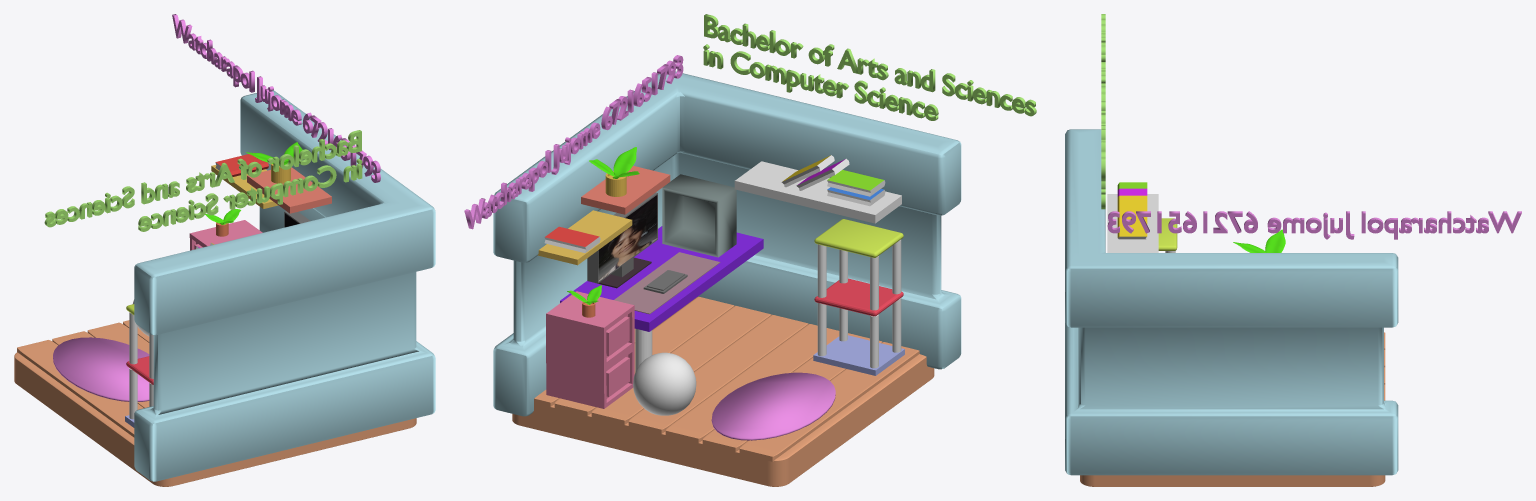
Rendered from KenRoom.glb.
The picture shows the model from 3 angles, left to right: view 1: azimuth 30°, elevation 25°; view 2: azimuth 150°, elevation 25°; view 3: azimuth 270°, elevation 25°; orthographic projection. The views are drawn at different scales.
Visible parts, largest first — view 1: Cube, Text.002, Cube.001, Cylinder.006, Text.001, Cube.002, Cube.011, Cube.005, Cube.010, Cube.021; view 2: Cube, Cube.002, Cube.001, Cube.005, Text.002, Cylinder.006, Cube.006, Text.001, Cube.003, Cube.012, Sphere, Cube.007 (+9 smaller); view 3: Cube, Text.001, Cube.001, Cube.012, Text.002, Cube.019, Cube.025.
Boxes of the visible parts, bbox=[...] form: Cube: bbox=[134, 90, 435, 481]; Text.002: bbox=[44, 130, 362, 231]; Cube.001: bbox=[14, 352, 416, 486]; Cylinder.006: bbox=[53, 337, 149, 401]; Text.001: bbox=[172, 14, 380, 182]; Cube.002: bbox=[17, 320, 149, 437]; Cube.011: bbox=[247, 167, 331, 213]; Cube.005: bbox=[189, 220, 262, 250]; Cube.010: bbox=[211, 165, 278, 208]; Cube.021: bbox=[216, 152, 268, 176]; Cube: bbox=[493, 71, 961, 416]; Cube.002: bbox=[534, 296, 919, 461]; Cube.001: bbox=[512, 354, 934, 486]; Cube.005: bbox=[546, 291, 634, 408]; Text.002: bbox=[703, 14, 1036, 120]; Cylinder.006: bbox=[711, 372, 835, 440]; Cube.006: bbox=[662, 174, 736, 257]; Text.001: bbox=[464, 55, 683, 229]; Cube.003: bbox=[560, 226, 763, 331]; Cube.012: bbox=[734, 161, 901, 223]; Sphere: bbox=[633, 352, 696, 415]; Cube.007: bbox=[614, 252, 720, 314]; Cube: bbox=[1065, 129, 1398, 475]; Text.001: bbox=[1107, 211, 1521, 239]; Cube.001: bbox=[1080, 475, 1385, 486]; Cube.012: bbox=[1107, 194, 1158, 252]; Text.002: bbox=[1101, 14, 1105, 209]; Cube.019: bbox=[1117, 195, 1147, 237]; Cube.025: bbox=[1158, 218, 1177, 250].
Bounding box in the file's own units: 14.24 × 10.93 × 14.96.
45 materials, 1 textured.
